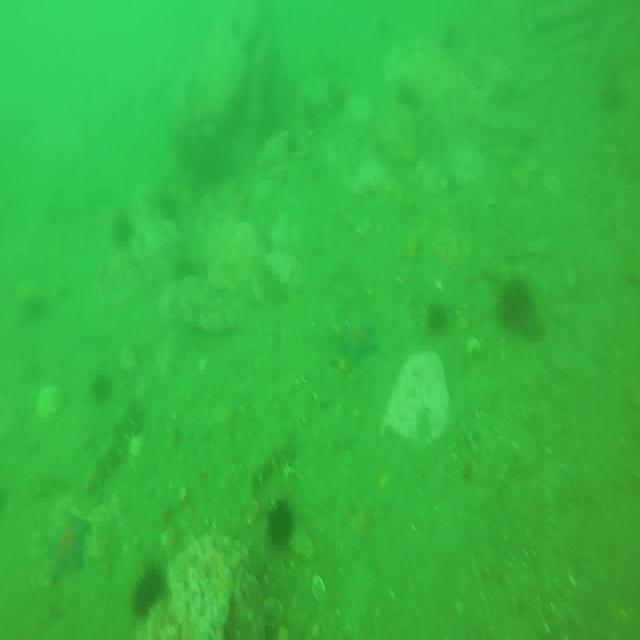echinus: (130, 560, 165, 615), (500, 274, 533, 325), (270, 499, 295, 549), (110, 211, 138, 253), (426, 300, 452, 335), (89, 368, 110, 396)
holothurian: (84, 392, 144, 501), (251, 418, 299, 491)
starfish: (46, 511, 91, 578), (337, 318, 377, 358)
